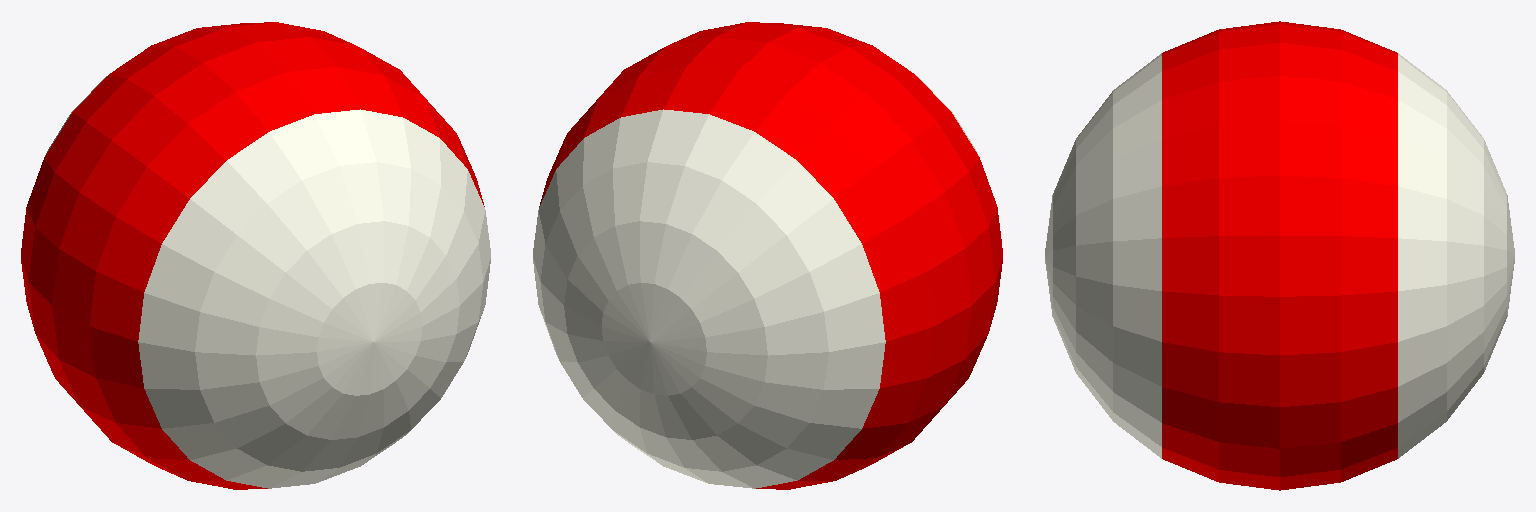
3 renders of one model, left to right at view 1: azimuth 30°, elevation 25°; view 2: azimuth 150°, elevation 25°; view 3: azimuth 270°, elevation 25°, orthographic.
Parts seen in each view (by area): view 1: Mesh02_1, band1_3, top__11_1_9; view 2: Mesh01_0, band1_3, top__11_1_9; view 3: band1_3, Mesh01_0, Mesh02_1, top__11_1_9.
Boxes of the visible parts, x1=… form: Mesh02_1: x1=138, y1=109, x2=490, y2=488; band1_3: x1=21, y1=23, x2=484, y2=488; top__11_1_9: x1=156, y1=22, x2=355, y2=107; Mesh01_0: x1=533, y1=109, x2=885, y2=488; band1_3: x1=539, y1=23, x2=1002, y2=488; top__11_1_9: x1=668, y1=22, x2=867, y2=107; band1_3: x1=1162, y1=21, x2=1397, y2=490; Mesh01_0: x1=1398, y1=53, x2=1514, y2=458; Mesh02_1: x1=1045, y1=53, x2=1161, y2=458; top__11_1_9: x1=1180, y1=22, x2=1379, y2=107.
Bounding box in the file's own units: 2.25 × 2.25 × 2.25.